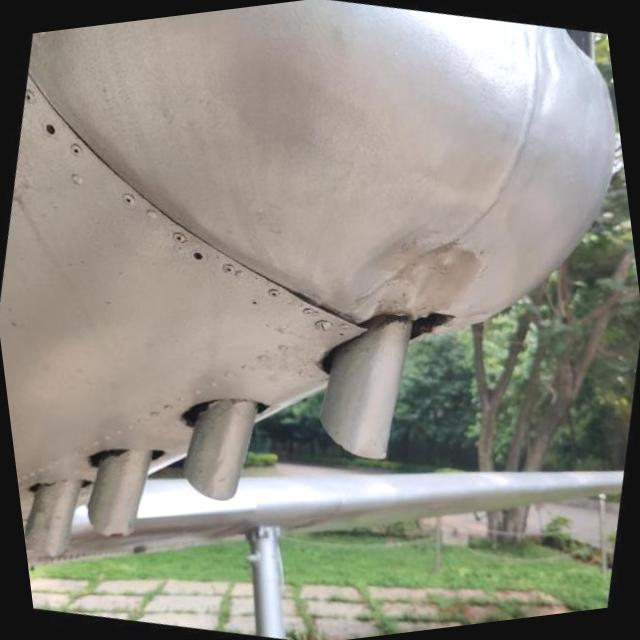Missing Fastener: (37, 116, 63, 143), (185, 250, 206, 265)
dent: (324, 215, 498, 328)
